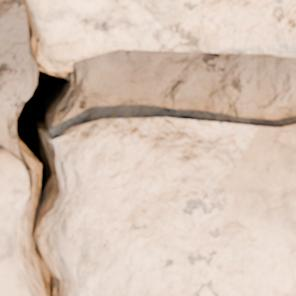brick: (26, 0, 295, 63)
broken_brick: (54, 117, 295, 295), (0, 147, 27, 244), (0, 251, 30, 295)
crack: (0, 1, 76, 295), (270, 124, 295, 129)
